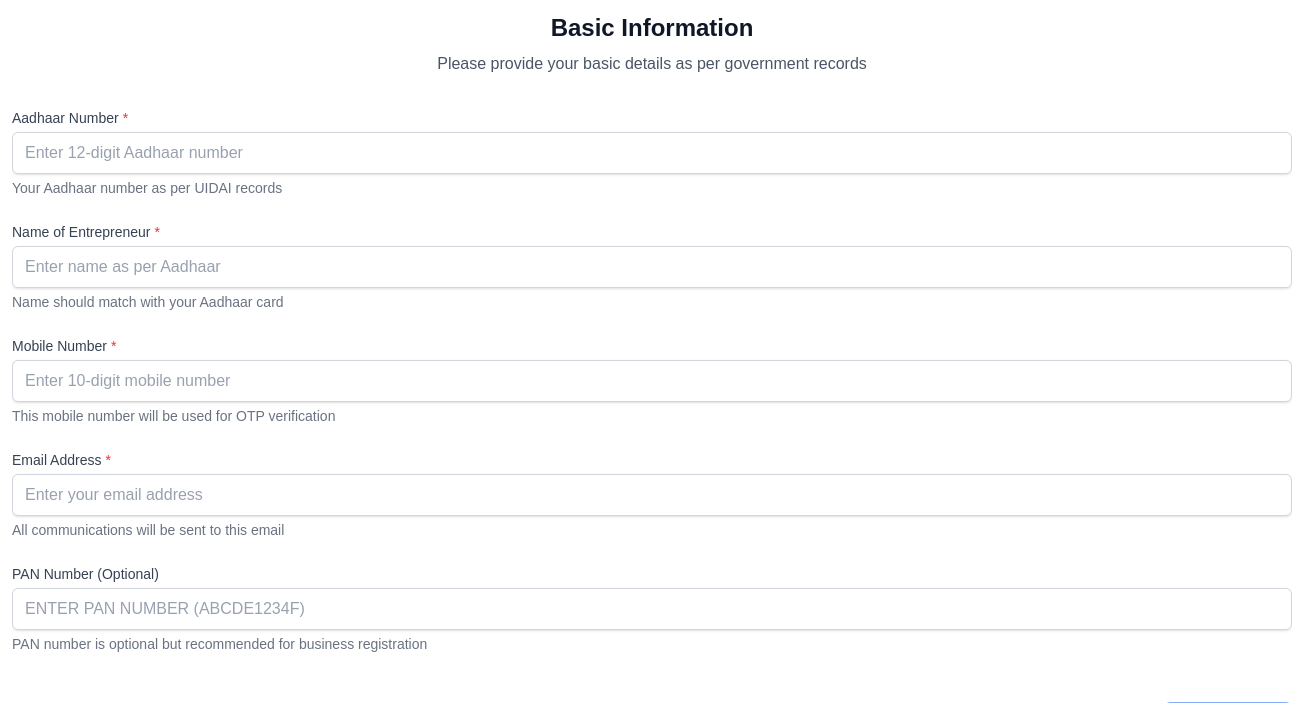
Step1Form › should validate email format
This screenshot has width=1304, height=703.
Type "invalid-email" into the field labelled "Email Address*" at (652,495), box 12,474 -> 1292,516
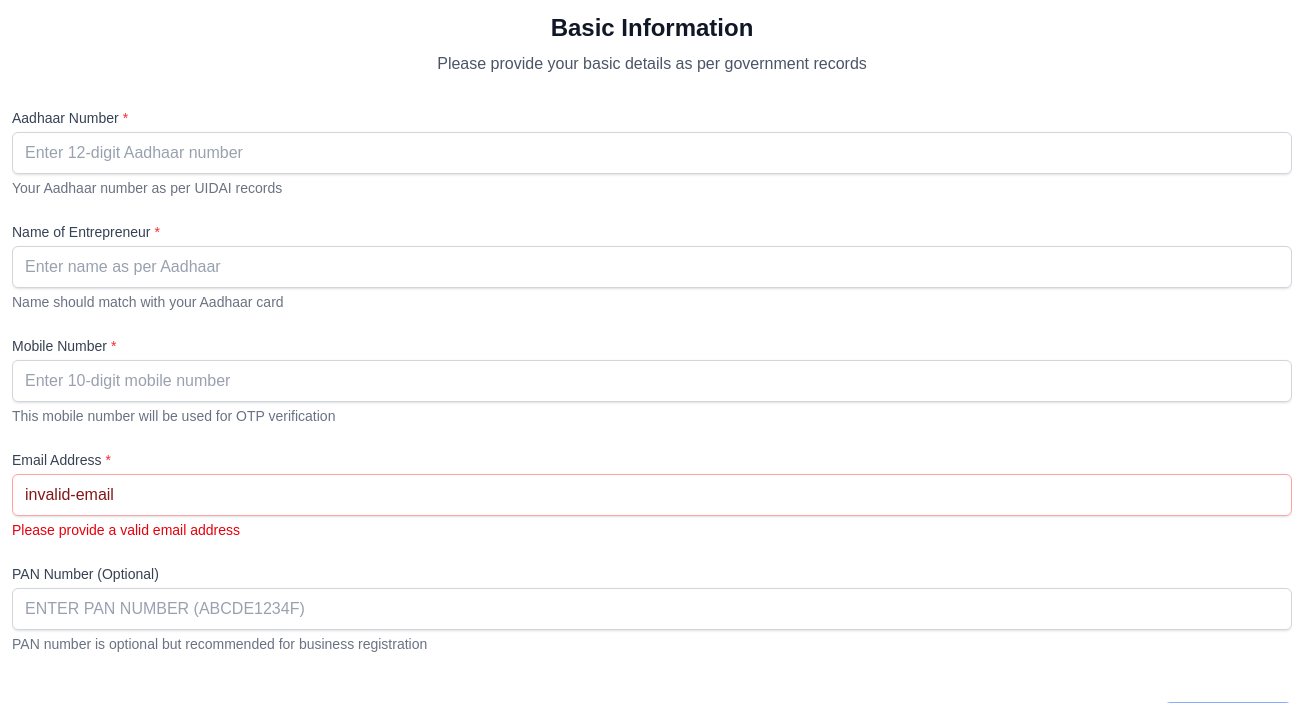
Check: the text "Please provide a valid email address" is shown, box 12,522 -> 240,538
